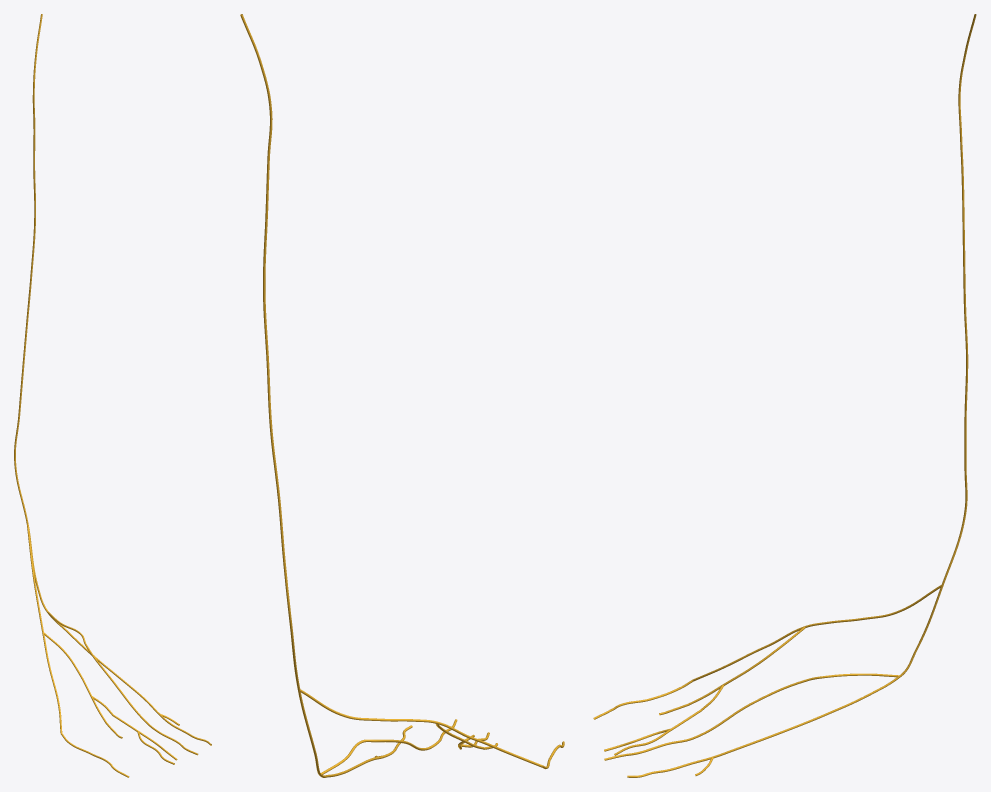
The model's file is nervoso-superficial-fibular-nerve-l.glb.
3 renders of one model, left to right at view 1: azimuth 30°, elevation 25°; view 2: azimuth 150°, elevation 25°; view 3: azimuth 270°, elevation 25°, orthographic. The views are drawn at different scales.
Parts seen in each view (by area): view 1: Superficial fibular nerve.l, Dorsal digital branches of superficial fibular nerve.l, Medial dorsal cutaneous nerve of foot.l, Intermediate dorsal cutaneous nerve of foot.l; view 2: Superficial fibular nerve.l, Medial dorsal cutaneous nerve of foot.l, Intermediate dorsal cutaneous nerve of foot.l, Dorsal digital branches of superficial fibular nerve.l; view 3: Dorsal digital branches of superficial fibular nerve.l, Superficial fibular nerve.l, Medial dorsal cutaneous nerve of foot.l, Intermediate dorsal cutaneous nerve of foot.l.
Boxes of the visible parts, x1,y1,x2,y2 form: Superficial fibular nerve.l: (14,14,42,524); Dorsal digital branches of superficial fibular nerve.l: (61,677,211,777); Medial dorsal cutaneous nerve of foot.l: (27,524,113,733); Intermediate dorsal cutaneous nerve of foot.l: (28,525,120,679); Superficial fibular nerve.l: (240,14,300,690); Medial dorsal cutaneous nerve of foot.l: (300,689,542,767); Intermediate dorsal cutaneous nerve of foot.l: (298,690,404,777); Dorsal digital branches of superficial fibular nerve.l: (357,719,564,769); Dorsal digital branches of superficial fibular nerve.l: (593,680,781,777); Superficial fibular nerve.l: (941,14,976,585); Medial dorsal cutaneous nerve of foot.l: (688,585,941,710); Intermediate dorsal cutaneous nerve of foot.l: (754,585,943,733).
Size of the model in its own units: 0.0765 by 0.3717 by 0.1718.
